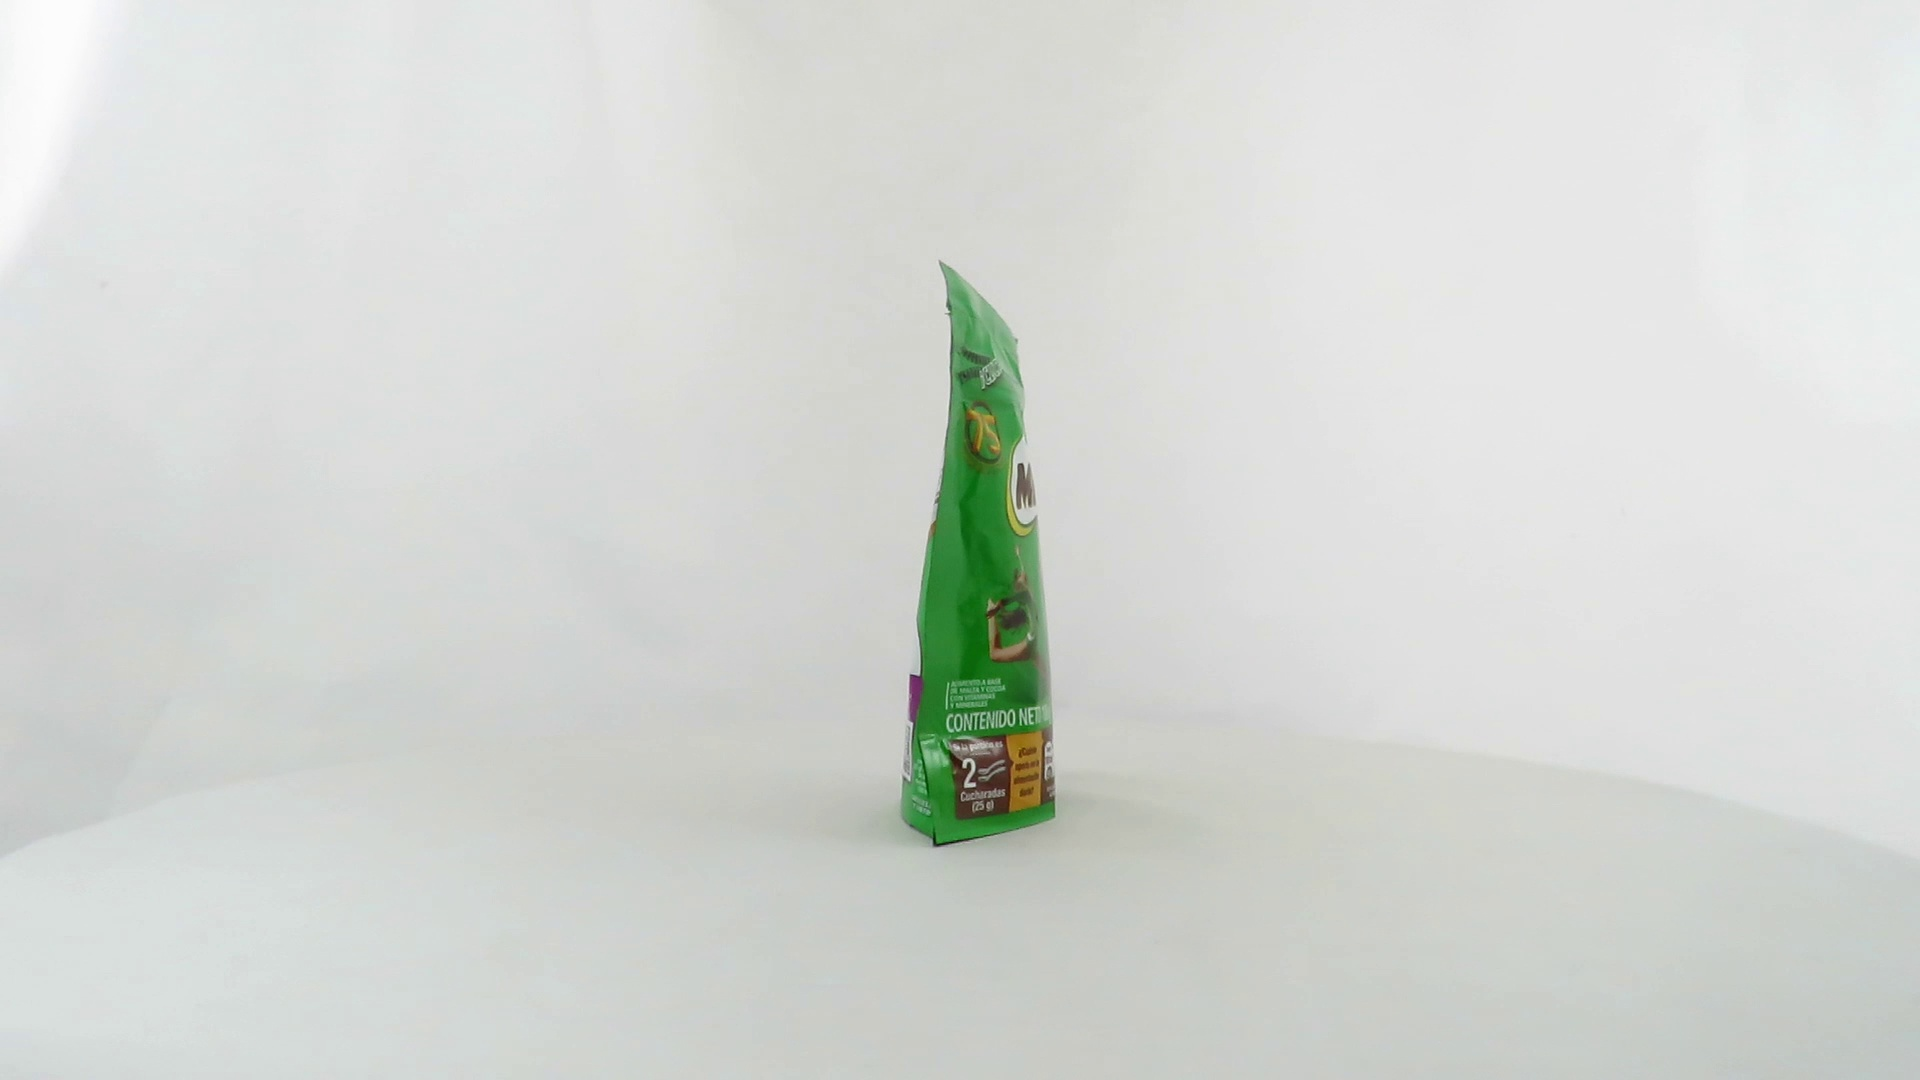COL0170203DYP10000: (895, 255, 1062, 853)
